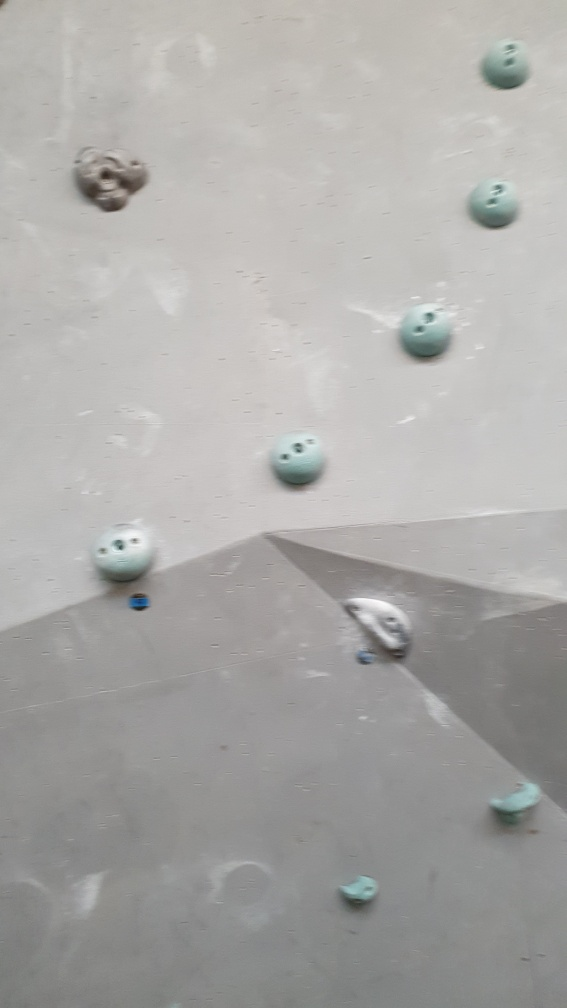Hand Start: (125, 588, 150, 613), (353, 646, 379, 670)
Jug: (70, 142, 157, 222), (486, 777, 545, 831)
Sloper: (90, 519, 159, 585), (271, 425, 329, 491), (396, 299, 456, 361), (462, 171, 519, 229), (479, 37, 535, 91)
